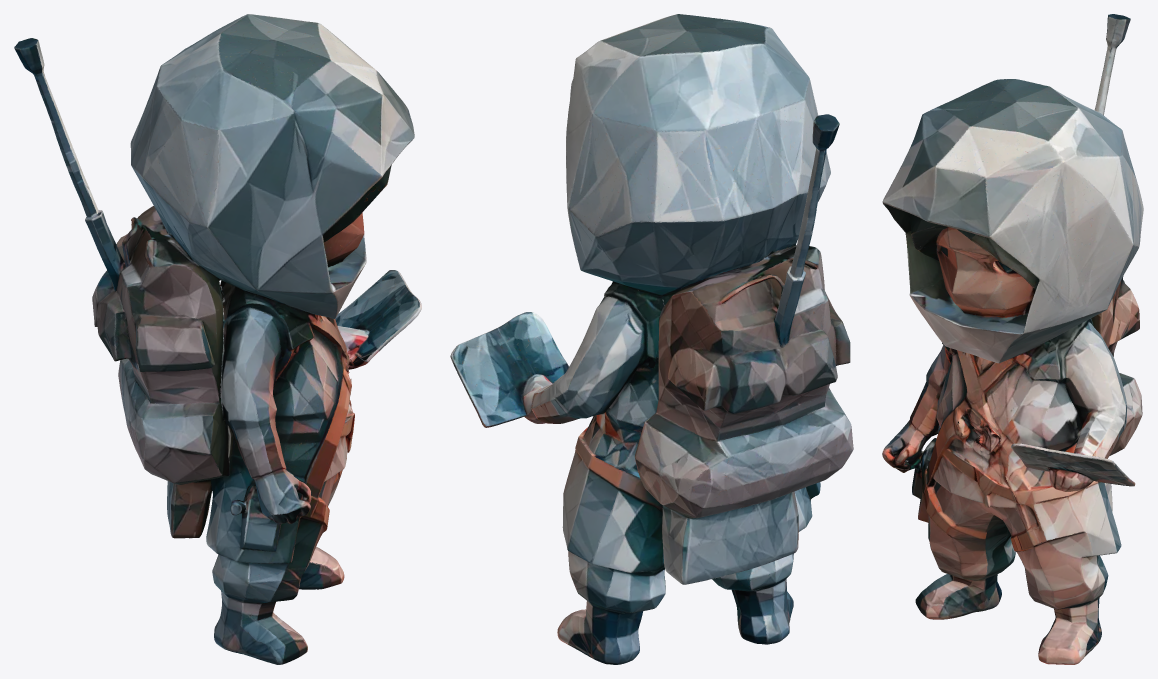
File: social-media-transformed.glb
The picture shows the model from 3 angles, left to right: view 1: azimuth 30°, elevation 25°; view 2: azimuth 150°, elevation 25°; view 3: azimuth 270°, elevation 25°; orthographic projection. The views are drawn at different scales.
Parts seen in each view (by area): view 1: input; view 2: input; view 3: input.
Part boxes in pixels (x1,y1,x2,y2): input: [14, 14, 421, 664]; input: [450, 14, 853, 664]; input: [882, 14, 1143, 664].
Bounding box in the file's own units: 0.6708 × 0.9999 × 0.4483.
Materials: 1 (1 with a texture image).
